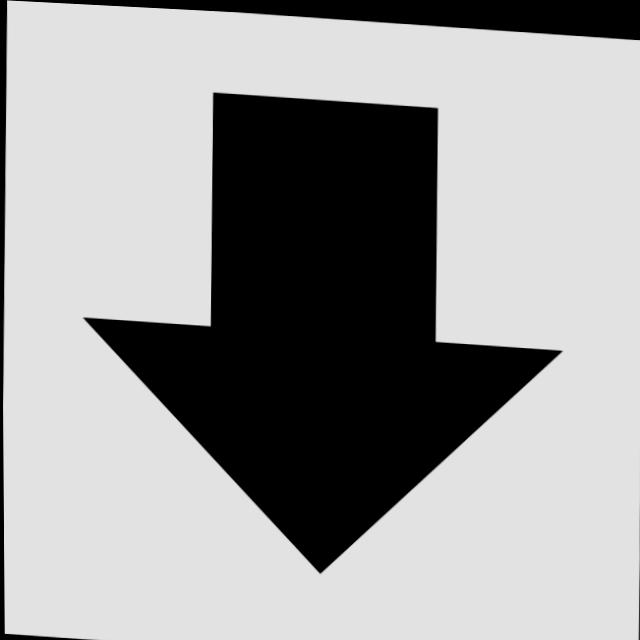DOWN: (87, 91, 558, 566)
